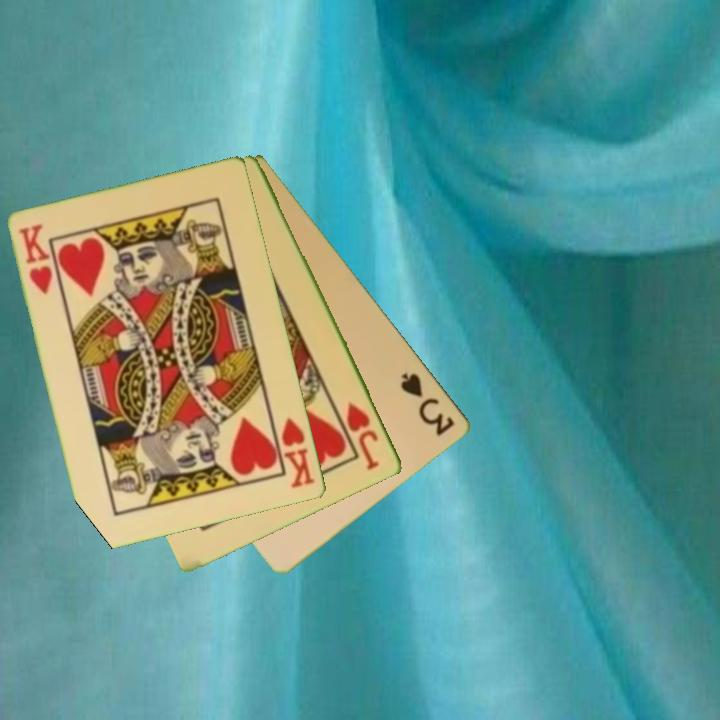3s: (397, 369, 458, 439)
Jh: (343, 398, 383, 473)
Kh: (269, 412, 318, 492), (15, 220, 56, 298)
